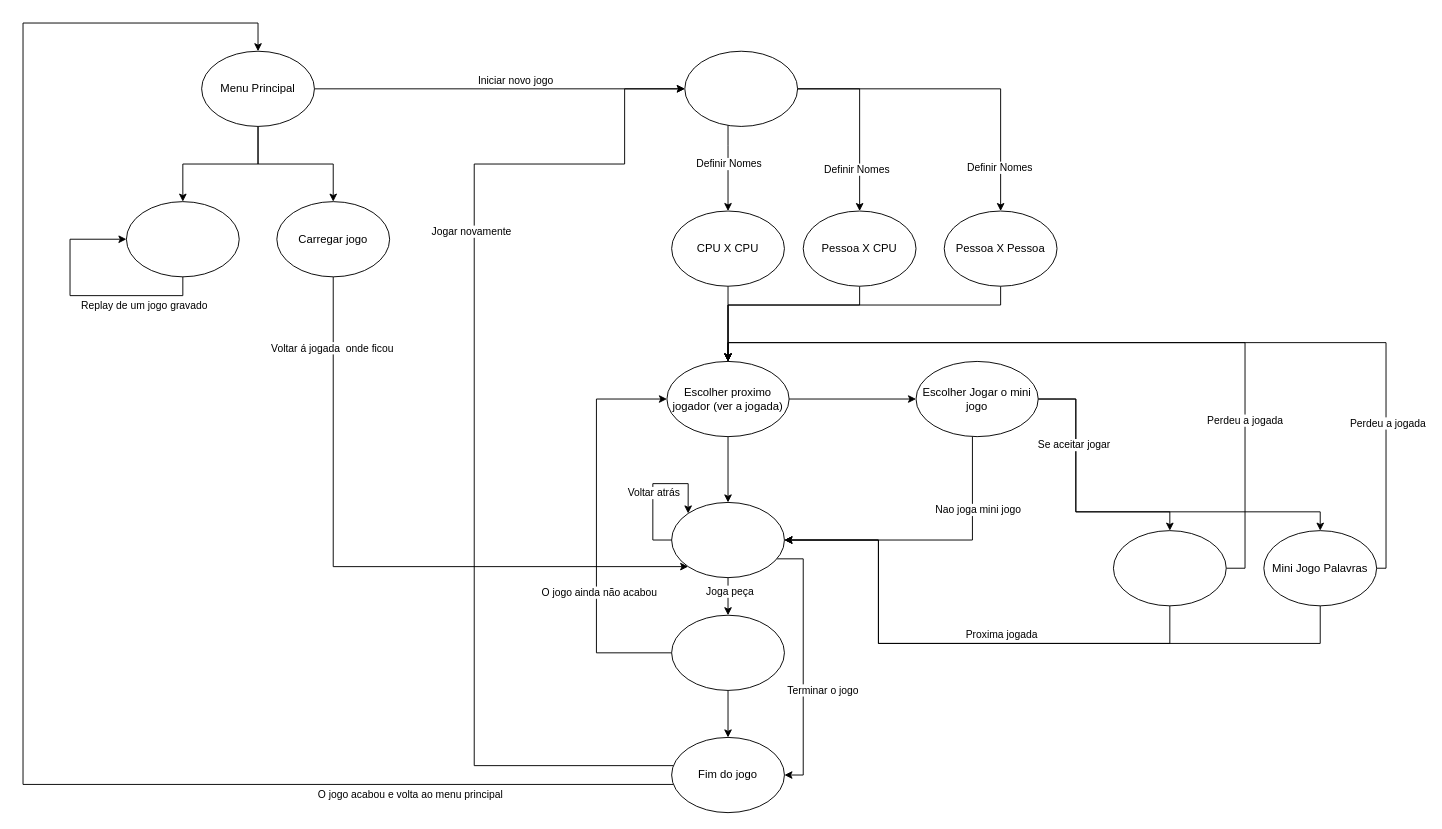
The diagram is 1442 pixels wide and 829 high, and some of its shapes have lost their labels. Each missing label, with the box of its shape:
Escolher Modo de jogo: (684, 50, 798, 126)
Mini Jogo Calculos: (1112, 530, 1226, 606)
Proxima jogada no quatro em linha e guardar o jogo (menu): (671, 501, 784, 578)
Replay: (125, 201, 239, 277)
Verificar se o jogo acabou: (671, 614, 784, 690)
